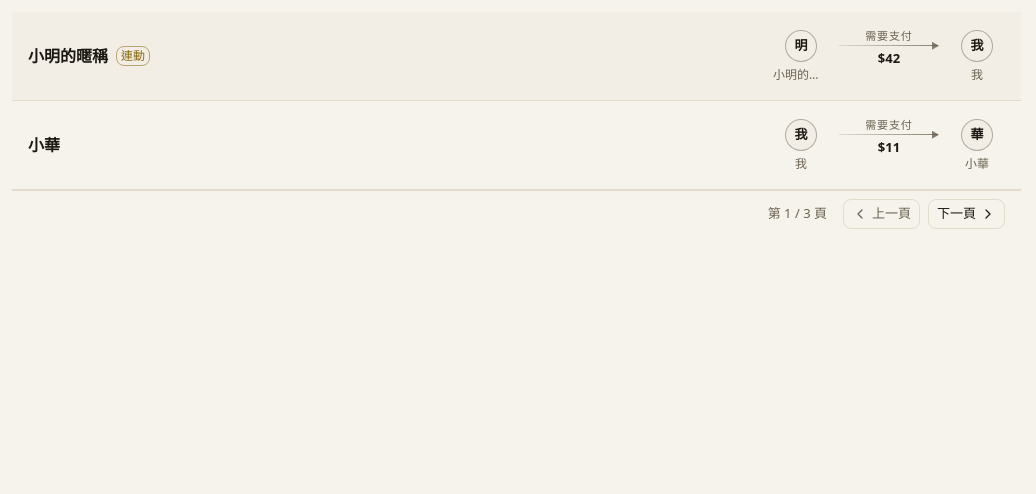
Test: CounterpartyList › keeps only one counterparty expanded and renders the API shared sources
Click the button "小明的暱稱 連動 明 小明的暱稱 需要支付 $42 我 我". click: x=68, y=56
box: [12,12,1021,100]
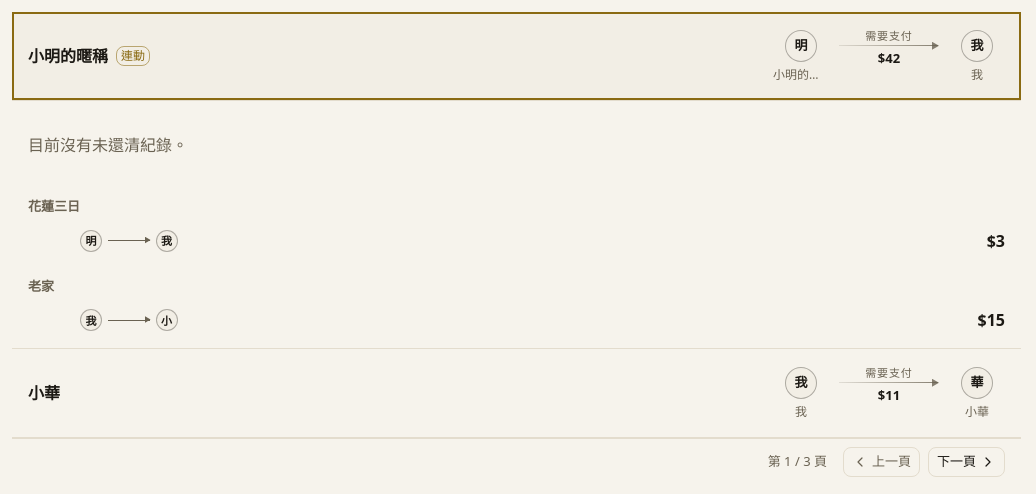
Expected: the heading "花蓮三日" is shown, [28,197,80,215]
Expected: the element named "明哥欠你 $3" is shown, [80,230,1005,252]
Expected: the heading "老家" is shown, [28,276,54,294]
Click the button "小華 我 我 需要支付 $11 華 小華". click: x=44, y=393
box: [12,349,1021,437]
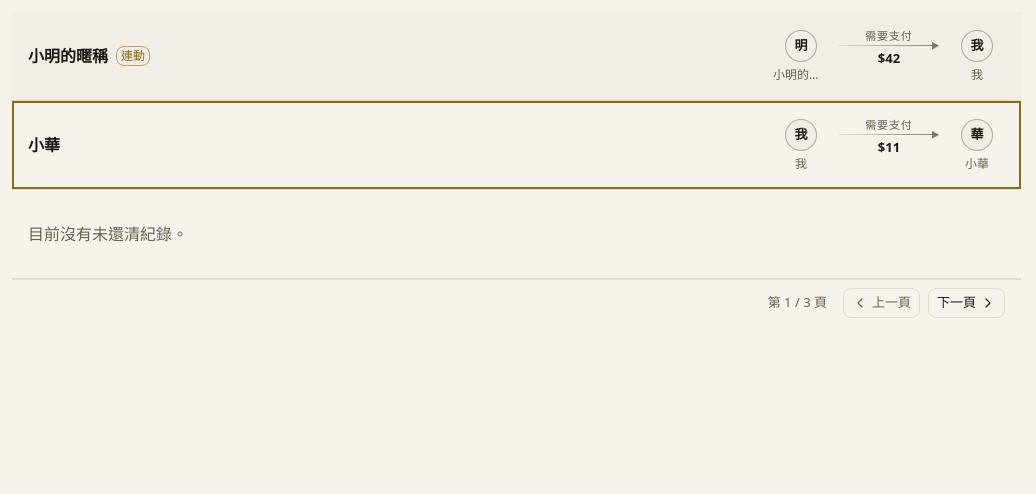
Expected: the button "小華 我 我 需要支付 $11 華 小華" is expanded, [12,101,1021,189]
Expected: the heading "花蓮三日" is gone
